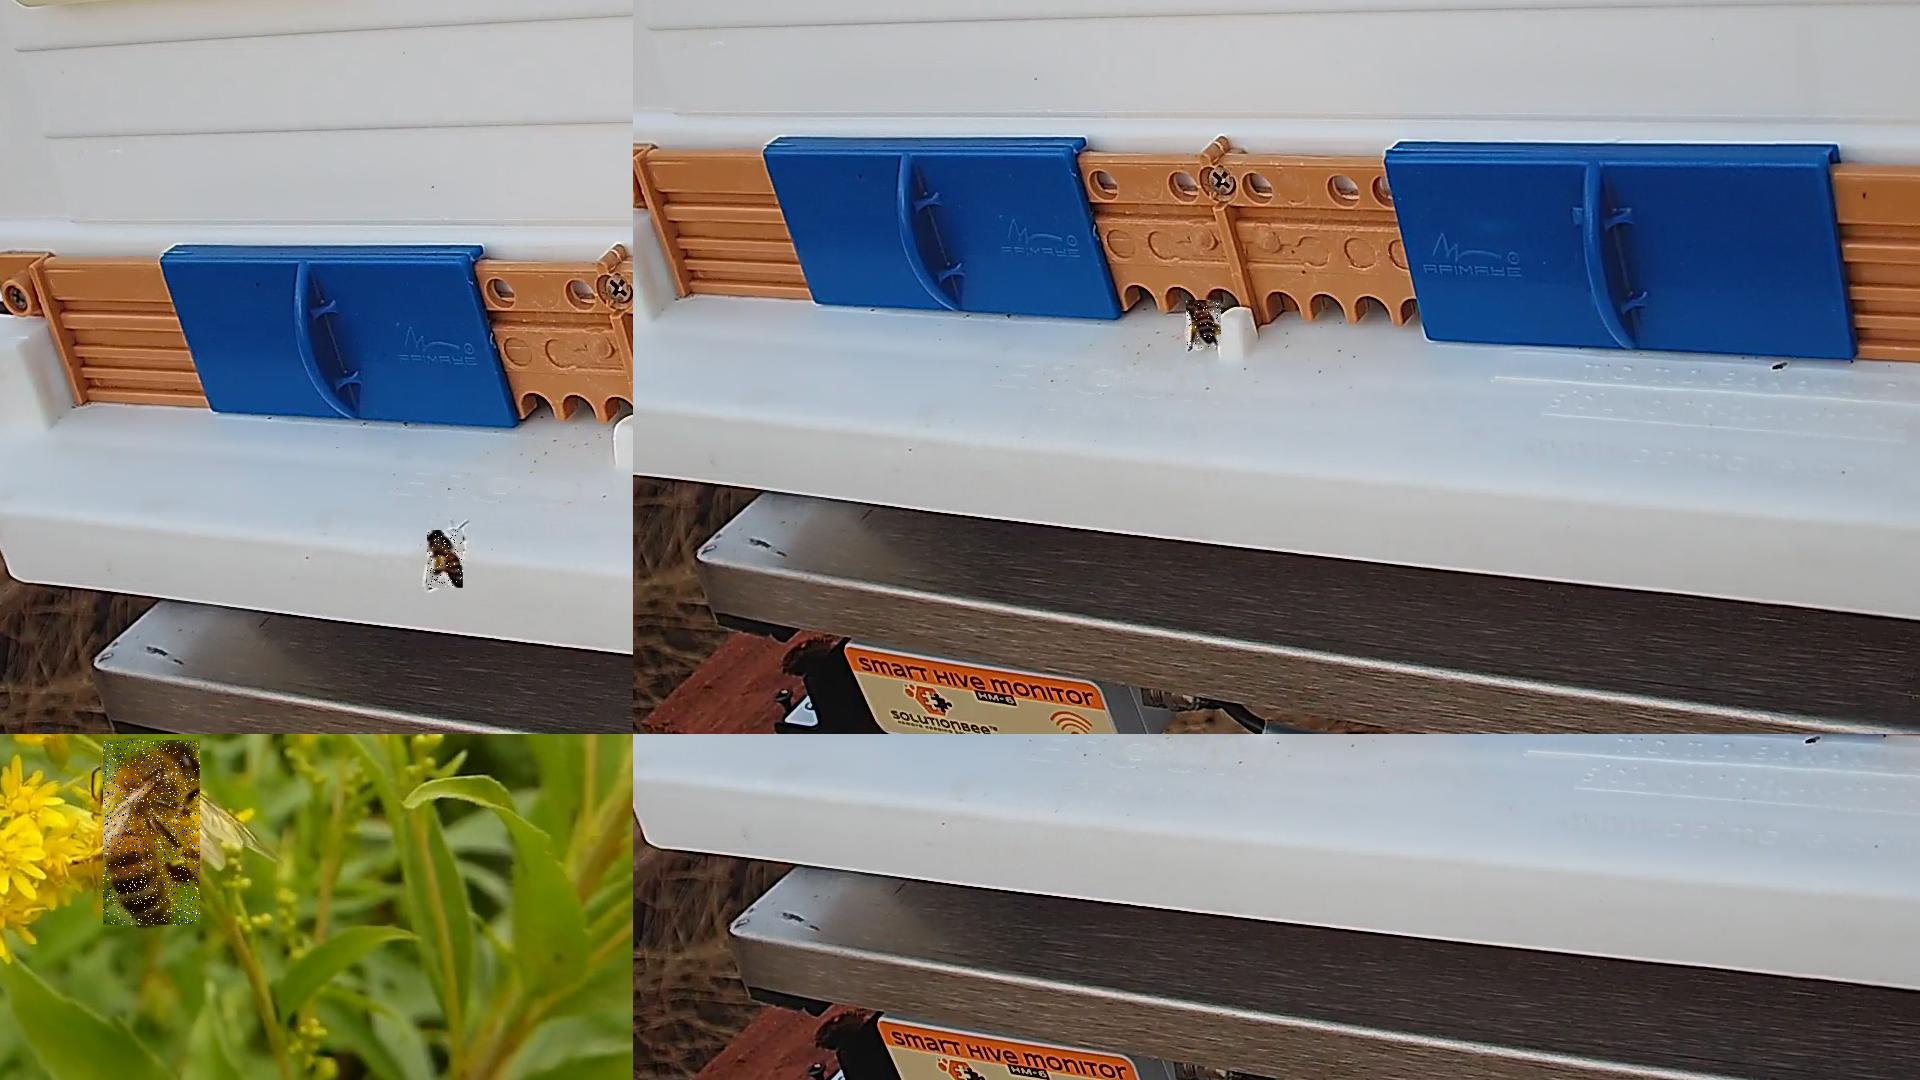bee: (103, 740, 202, 926)
pollenbee: (427, 530, 464, 589), (1185, 301, 1222, 349)
